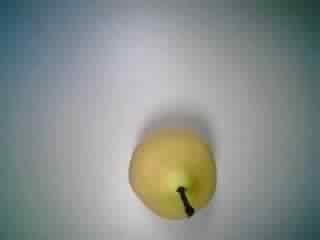pear: (123, 123, 222, 226)
